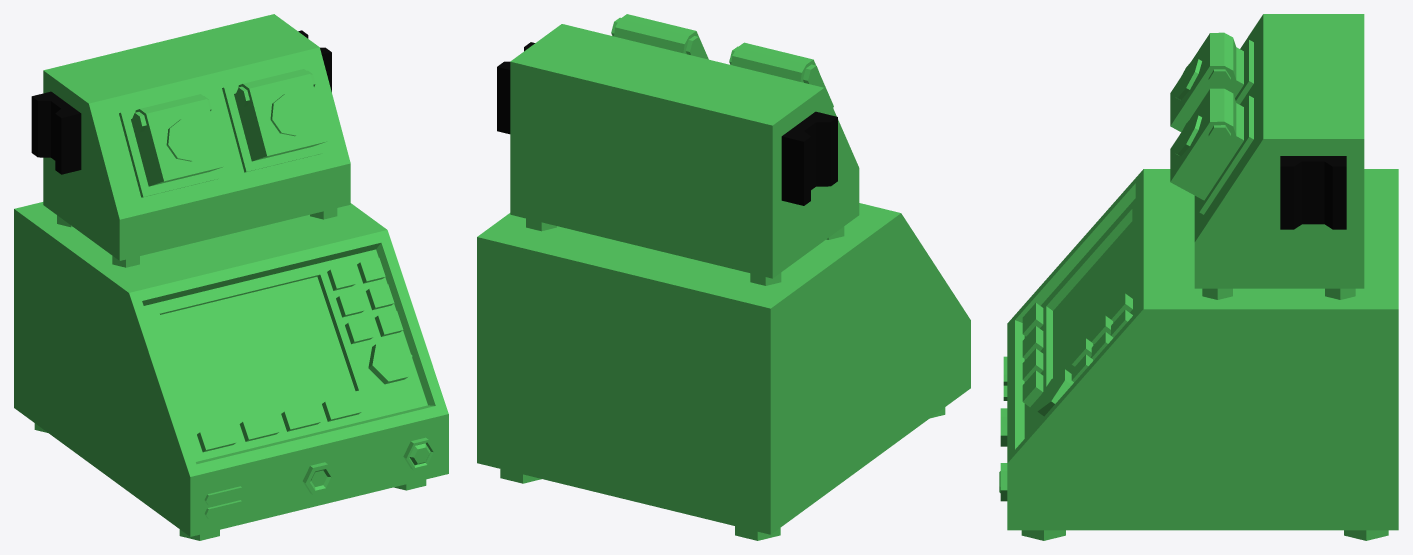
File: Ph_computer.fbx
3 views of the same model, side by side, from view 1: azimuth 30°, elevation 25°; view 2: azimuth 150°, elevation 25°; view 3: azimuth 270°, elevation 25° (orthographic). The views are drawn at different scales.
Parts seen in each view (by area): view 1: Cylinder_60; view 2: Cylinder_60; view 3: Cylinder_60.
Boxes of the visible parts, x1,y1,x2,y2 form: Cylinder_60: [14, 14, 448, 540]; Cylinder_60: [477, 14, 970, 540]; Cylinder_60: [999, 14, 1398, 540].
Bounding box in the file's own units: 42.2 × 53.43 × 48.61.
